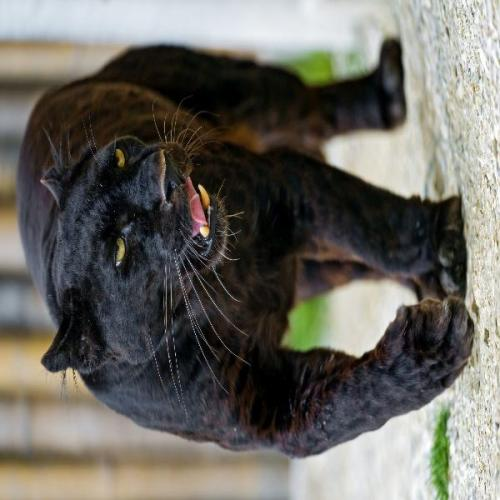panther-endangered: (23, 57, 466, 450)
